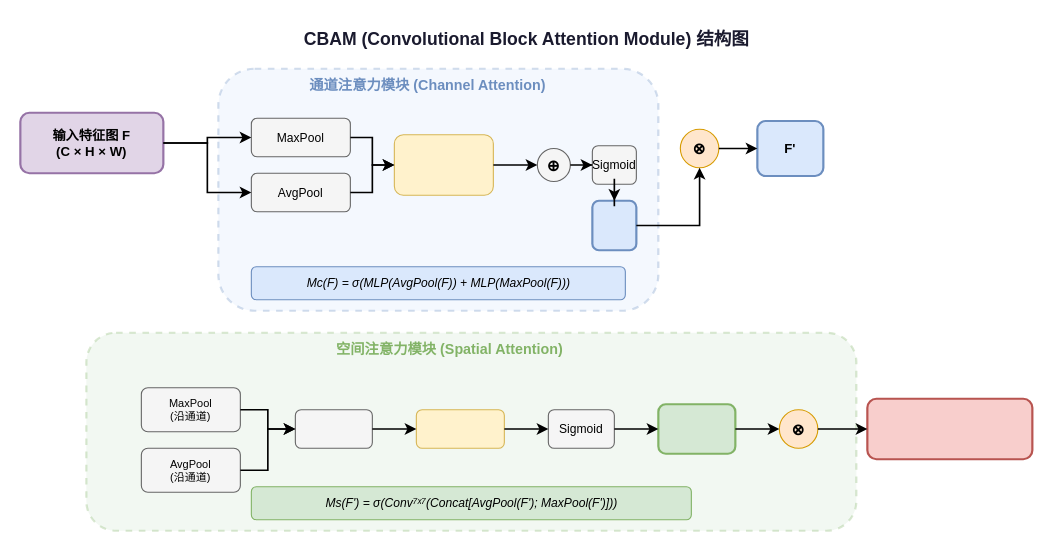
Some shapes in this 1052 by 550 pixel diagram are drawn without their labels. The shapes that lost their labels are listed below. From the top down, each one's centre as x and y in pixels, then its label:
the point at 443,164: Shared MLP (C/r → C)
the point at 614,225: Mc(F) 通道权重
the point at 333,428: Concat
the point at 459,428: Conv 7×7
the point at 696,428: Ms(F') 空间权重
the point at 949,428: 输出特征图 F'' (C × H × W)
